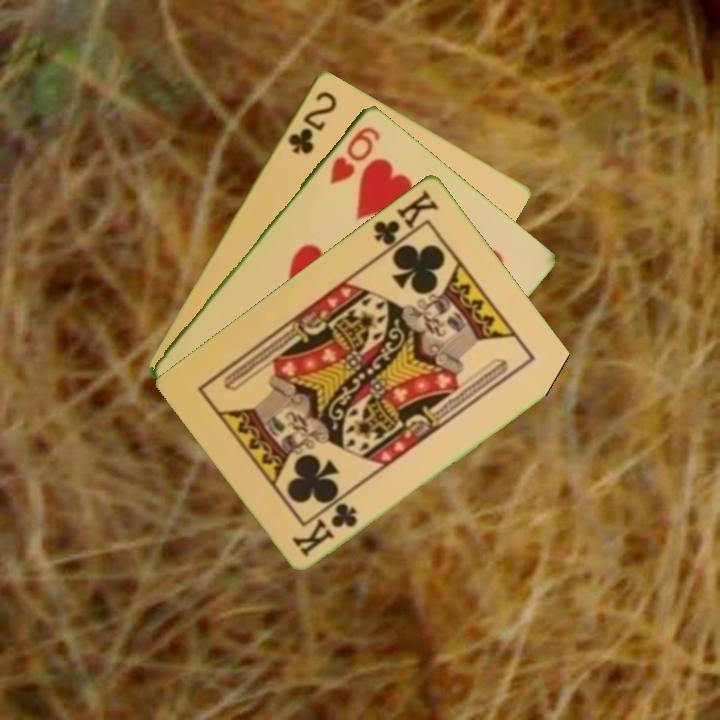2c: (284, 87, 340, 157)
6h: (326, 122, 383, 187)
Kc: (369, 185, 442, 256), (290, 498, 361, 559)
